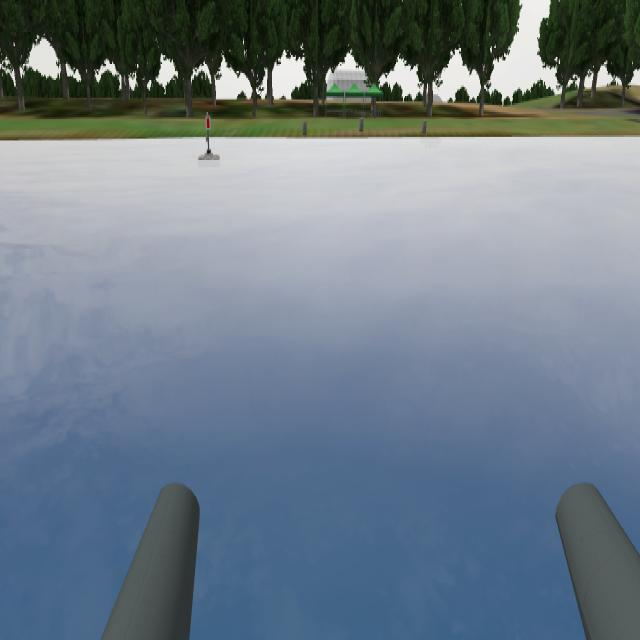red_pole: (206, 111, 216, 151)
